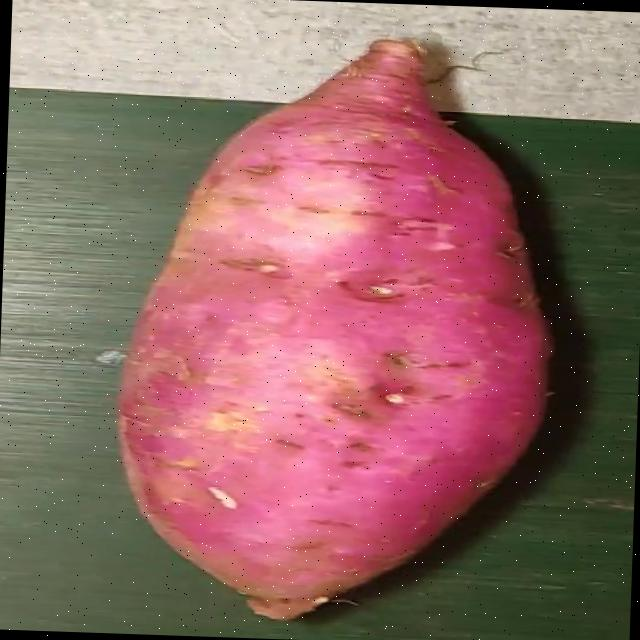Sweet Potato: (116, 34, 544, 618)
